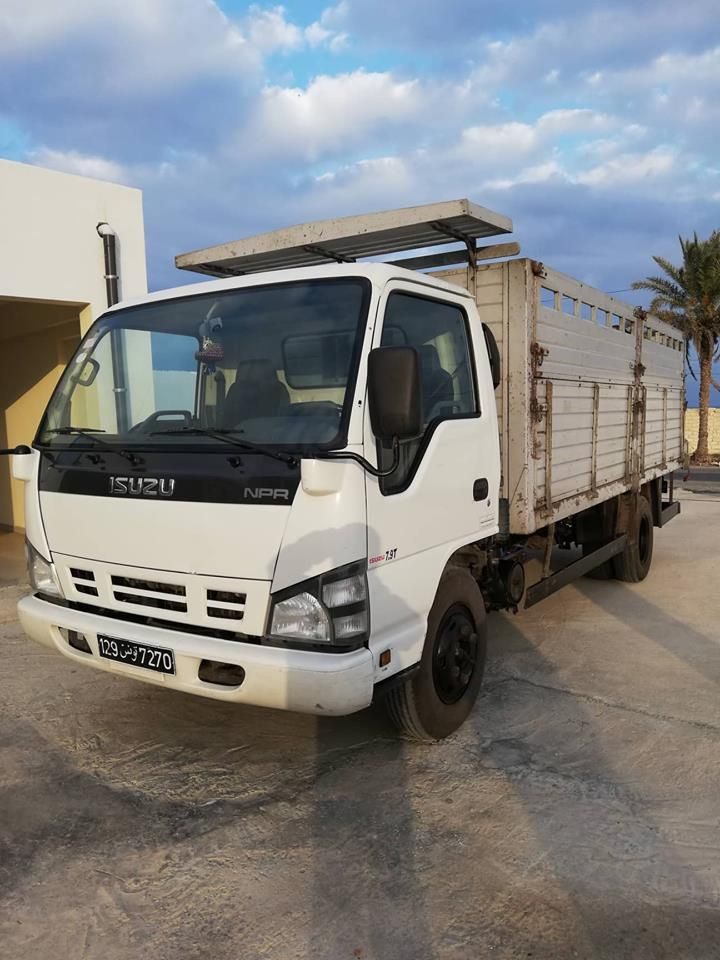LP: (95, 632, 175, 675)
